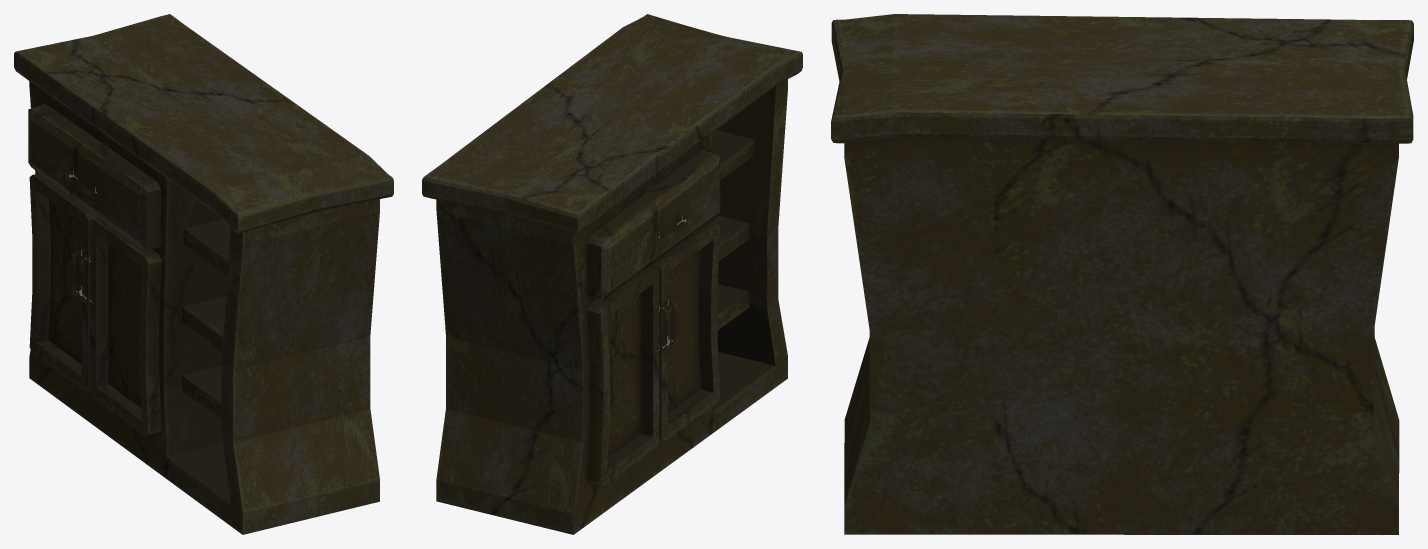
The model's file is Barra_Auxiliar.glb.
3 renders of one model, left to right at view 1: azimuth 30°, elevation 25°; view 2: azimuth 150°, elevation 25°; view 3: azimuth 270°, elevation 25°, orthographic. The views are drawn at different scales.
Visible parts, largest first — view 1: Meson.002, Agarraderas_Der.001; view 2: Meson.002, Agarraderas_Izq.001; view 3: Meson.002.
Part boxes in pixels (x1=…): Meson.002: x1=14, y1=14, x2=393, y2=534; Agarraderas_Der.001: x1=79, y1=252, x2=95, y2=304; Meson.002: x1=422, y1=14, x2=802, y2=534; Agarraderas_Izq.001: x1=653, y1=302, x2=669, y2=353; Meson.002: x1=831, y1=14, x2=1413, y2=534.
Size of the model in its own units: 0.4767 by 0.8533 by 1.05.
Materials: 2 (2 with a texture image).
